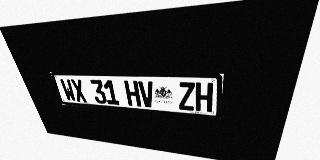1: (102, 80, 120, 105)
3: (90, 80, 107, 104)
H: (195, 82, 213, 112), (124, 81, 141, 107)
V: (138, 81, 155, 108)
W: (59, 79, 77, 102)
X: (70, 79, 88, 103)
Z: (178, 82, 195, 111)
